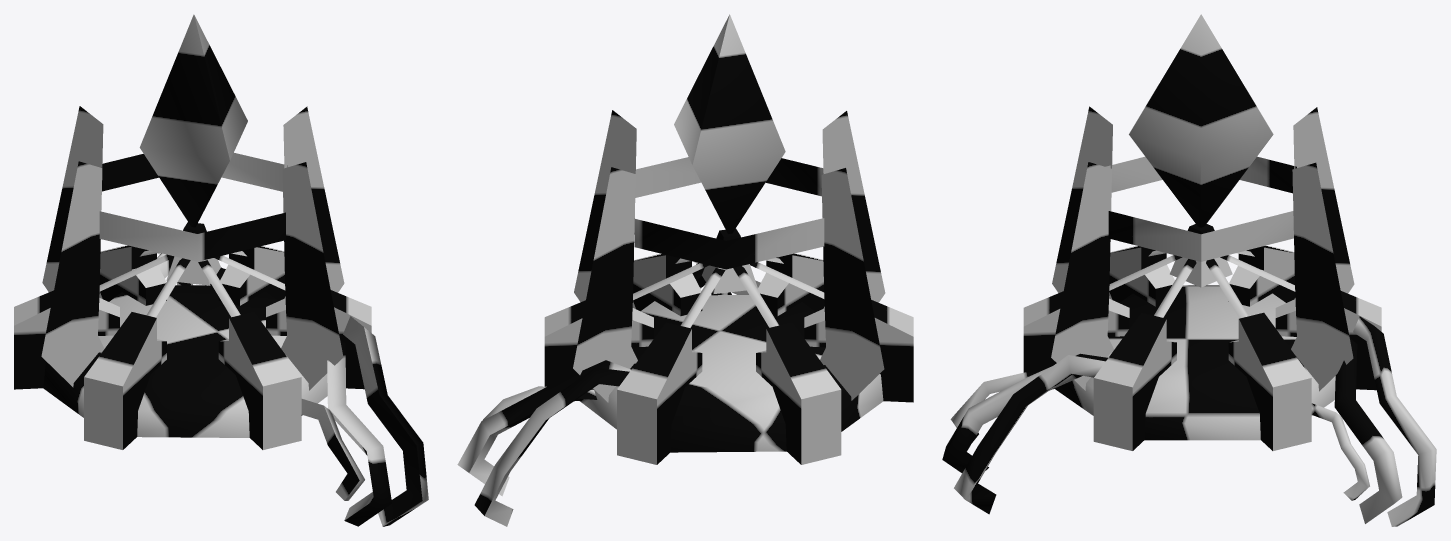
Rendered from al-laser-module.obj.
3 views of the same model, side by side, from view 1: azimuth 30°, elevation 25°; view 2: azimuth 150°, elevation 25°; view 3: azimuth 270°, elevation 25° (orthographic). The views are drawn at different scales.
Parts seen in each view (by area): view 1: cbs_module_laser_al; view 2: cbs_module_laser_al; view 3: cbs_module_laser_al.
Boxes of the visible parts, bbox=[...] form: cbs_module_laser_al: bbox=[14, 14, 428, 526]; cbs_module_laser_al: bbox=[457, 14, 913, 526]; cbs_module_laser_al: bbox=[942, 14, 1436, 526].
Size of the model in its own units: 80.56 by 110 by 108.
Materials: 1 (1 with a texture image).
